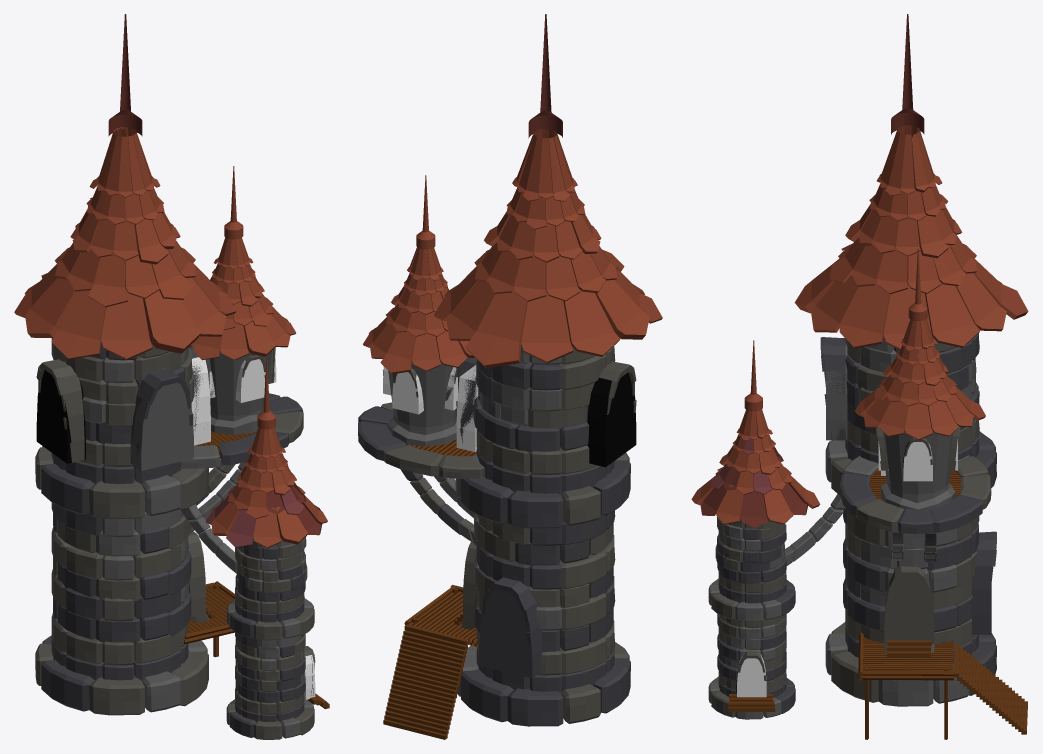
The model's file is Tower.fbx.
3 renders of one model, left to right at view 1: azimuth 30°, elevation 25°; view 2: azimuth 150°, elevation 25°; view 3: azimuth 270°, elevation 25°, orthographic. The views are drawn at different scales.
Parts seen in each view (by area): view 1: Circle.024, Circle.016, Cube.017, Cube.026, Circle.038, Plane.051, Cube.031, Cube.035, Cube.034, Circle.037, Cube.032, Cube.033 (+39 smaller); view 2: Circle.024, Circle.038, Cube.017, Cube.088, Cube.026, Plane.018, Cube.074, Plane.048, Circle.037, Cube.031, Cube.022, Cube.025 (+23 smaller); view 3: Circle.024, Circle.038, Circle.016, Cube.074, Cube.017, Circle.037, Plane.019, Cube.088, Cube.031, Cube.032, Cube.034, Cube.045 (+28 smaller).
Boxes of the visible parts, bbox=[...] form: Circle.024: bbox=[14, 127, 236, 360]; Circle.016: bbox=[205, 427, 327, 547]; Cube.017: bbox=[35, 635, 208, 715]; Cube.026: bbox=[35, 446, 208, 519]; Circle.038: bbox=[189, 237, 295, 360]; Plane.051: bbox=[130, 368, 193, 470]; Cube.031: bbox=[51, 527, 188, 580]; Cube.035: bbox=[51, 613, 188, 665]; Cube.034: bbox=[53, 591, 191, 642]; Circle.037: bbox=[210, 350, 272, 434]; Cube.032: bbox=[53, 548, 191, 601]; Cube.033: bbox=[51, 569, 188, 621]; Circle.024: bbox=[433, 129, 662, 368]; Circle.038: bbox=[363, 247, 474, 374]; Cube.017: bbox=[457, 642, 630, 726]; Cube.088: bbox=[383, 624, 469, 739]; Cube.026: bbox=[455, 452, 630, 528]; Plane.018: bbox=[479, 586, 542, 678]; Cube.074: bbox=[358, 402, 484, 479]; Plane.048: bbox=[587, 372, 636, 467]; Circle.037: bbox=[387, 361, 456, 446]; Cube.031: bbox=[476, 534, 615, 589]; Cube.022: bbox=[476, 346, 615, 390]; Cube.025: bbox=[474, 396, 589, 452]; Circle.024: bbox=[794, 125, 1028, 349]; Circle.038: bbox=[855, 319, 985, 439]; Circle.016: bbox=[691, 409, 820, 527]; Cube.074: bbox=[840, 455, 991, 533]; Cube.017: bbox=[825, 622, 996, 706]; Circle.037: bbox=[881, 430, 955, 510]; Plane.019: bbox=[884, 570, 934, 643]; Cube.088: bbox=[953, 644, 1027, 734]; Cube.031: bbox=[845, 523, 979, 570]; Cube.032: bbox=[843, 538, 977, 592]; Cube.034: bbox=[843, 578, 973, 632]; Cube.045: bbox=[863, 637, 953, 670].
Bounding box in the file's own units: 3809 × 9071 × 4123.
